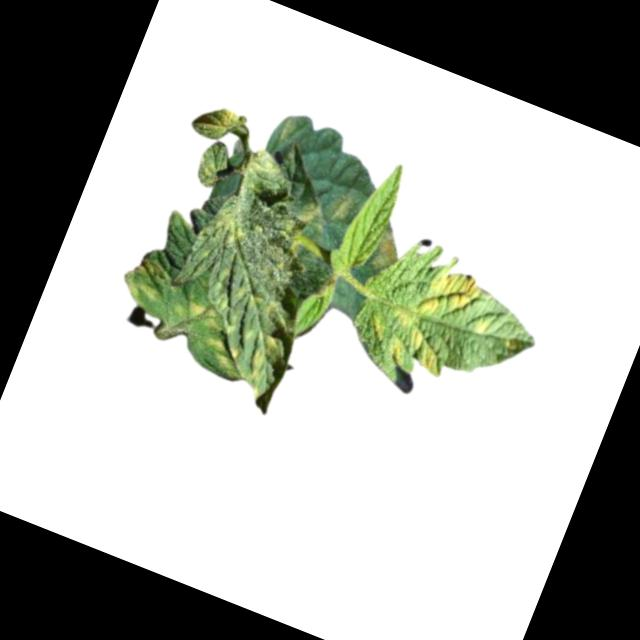Leaf_Mold: (361, 296, 458, 381), (413, 259, 483, 329), (230, 325, 293, 398), (118, 252, 174, 309), (201, 203, 253, 255), (192, 98, 246, 147), (172, 294, 227, 338), (365, 218, 407, 273), (195, 334, 236, 372), (293, 195, 327, 231), (323, 190, 355, 224)
